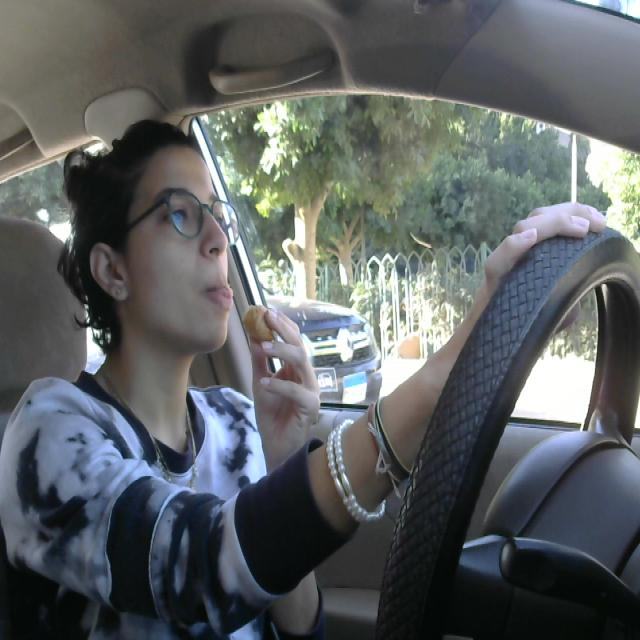eating: (234, 298, 275, 353)
